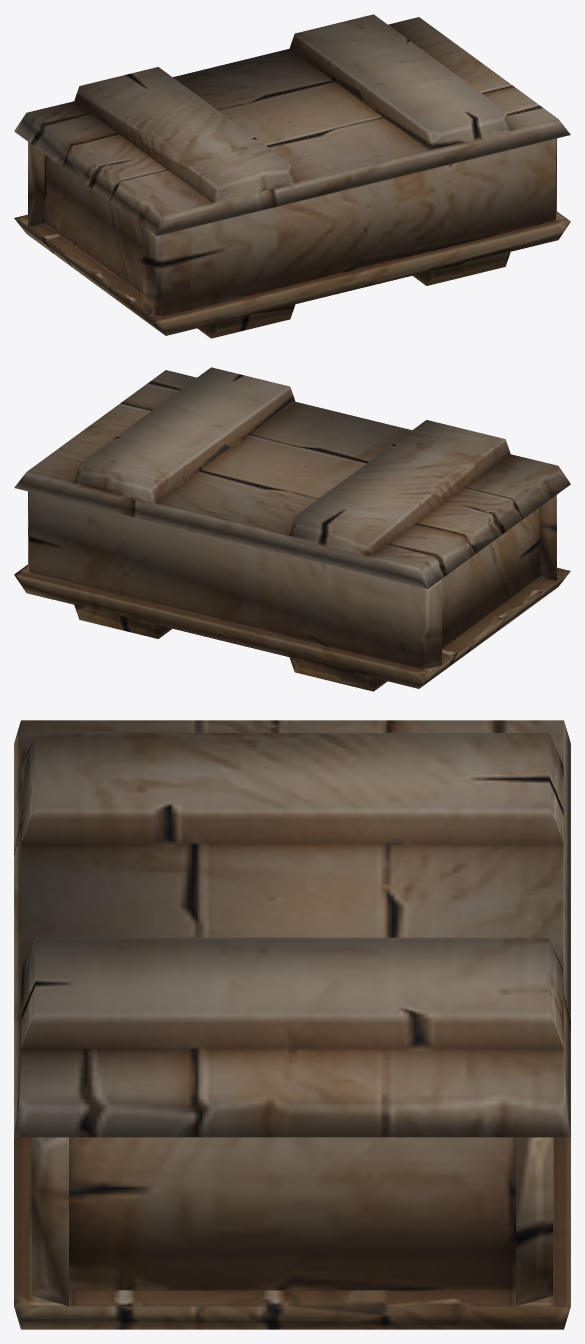
File: Crate-00.fbx
3 views of the same model, one above another, from view 1: azimuth 30°, elevation 25°; view 2: azimuth 150°, elevation 25°; view 3: azimuth 270°, elevation 25° (orthographic). The views are drawn at different scales.
Parts seen in each view (by area): view 1: Crate-00; view 2: Crate-00; view 3: Crate-00.
Boxes of the visible parts, x1=… form: Crate-00: x1=14, y1=14, x2=570, y2=338; Crate-00: x1=14, y1=367, x2=570, y2=691; Crate-00: x1=14, y1=720, x2=570, y2=1329.
Bounding box in the file's own units: 0.375 × 0.135 × 0.2243.
Materials: 1 (1 with a texture image).
